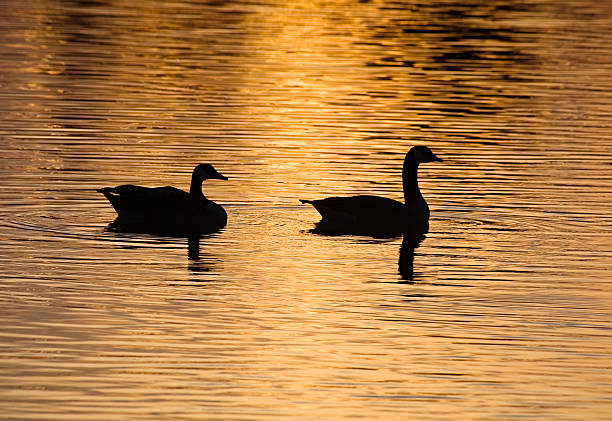goose: (293, 144, 444, 238), (96, 161, 231, 234)
